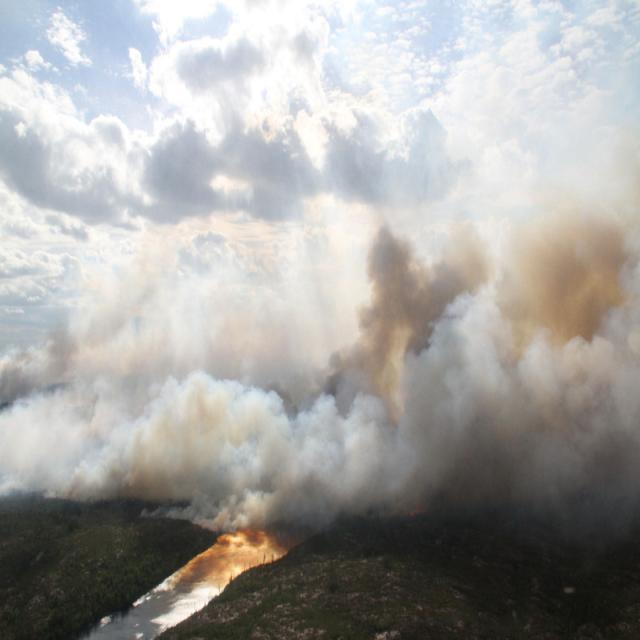Smoke: (0, 221, 640, 503)
